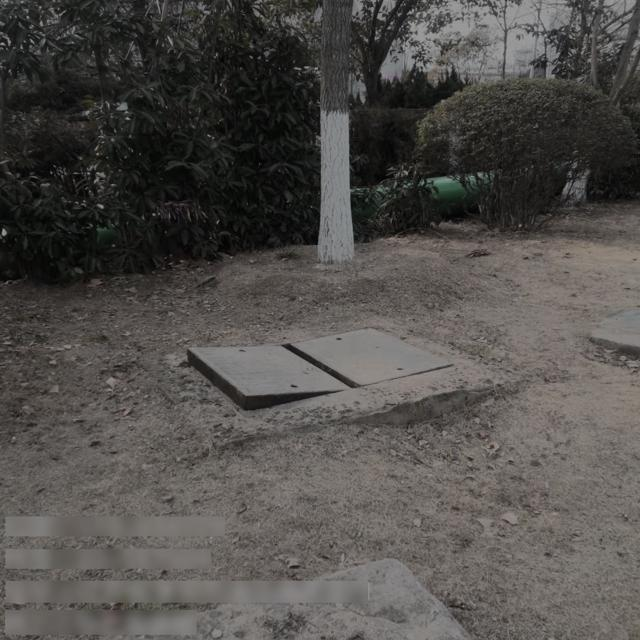uncovered: (185, 326, 452, 409)
